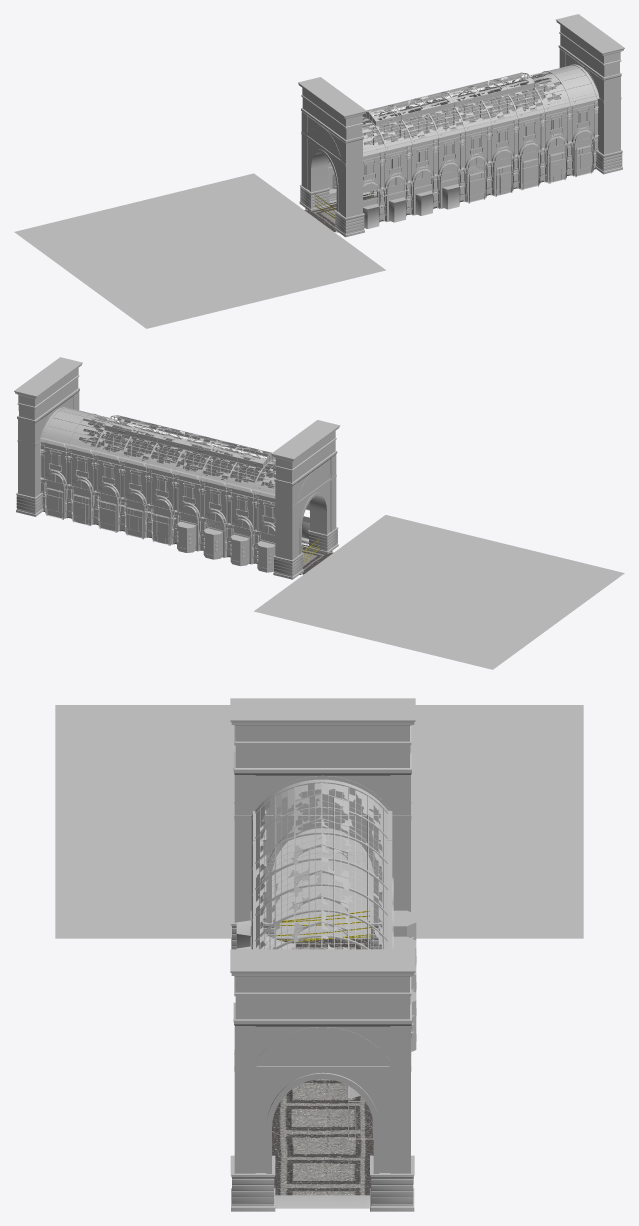
The model's file is Arcade.fbx.
3 views of the same model, one above another, from view 1: azimuth 30°, elevation 25°; view 2: azimuth 150°, elevation 25°; view 3: azimuth 270°, elevation 25° (orthographic). The views are drawn at different scales.
Parts seen in each view (by area): view 1: LODGroup_1_MainMesh_1_SubMesh_8_1, LODGroup_1_MainMesh_1_SubMesh_1_71, LODGroup_1_MainMesh_1_SubMesh_1_72, LODGroup_1_MainMesh_1_SubMesh_2_2, LODGroup_1_MainMesh_1_SubMesh_1_2, LODGroup_1_MainMesh_1_SubMesh_1_35, LODGroup_1_MainMesh_1_SubMesh_1_36, LODGroup_1_MainMesh_1_SubMesh_1_34, LODGroup_1_MainMesh_1_SubMesh_1_33, LODGroup_1_MainMesh_1_SubMesh_2, LODGroup_1_MainMesh_1_SubMesh_1_67, LODGroup_1_MainMesh_1_SubMesh_1_69 (+16 smaller); view 2: LODGroup_1_MainMesh_1_SubMesh_8_1, LODGroup_1_MainMesh_1_SubMesh_1_71, LODGroup_1_MainMesh_1_SubMesh_1_72, LODGroup_1_MainMesh_1_SubMesh_2_2, LODGroup_1_MainMesh_1_SubMesh_1_2, LODGroup_1_MainMesh_1_SubMesh_1_68, LODGroup_1_MainMesh_1_SubMesh_1_69, LODGroup_1_MainMesh_1_SubMesh_1_67, LODGroup_1_MainMesh_1_SubMesh_1_66, LODGroup_1_MainMesh_1_SubMesh_2, LODGroup_1_MainMesh_1_SubMesh_1_36, LODGroup_1_MainMesh_1_SubMesh_1_70 (+16 smaller); view 3: LODGroup_1_MainMesh_1_SubMesh_8_1, LODGroup_1_MainMesh_1_SubMesh_1_72, LODGroup_1_MainMesh_1_SubMesh_1_71, LODGroup_1_MainMesh_1_SubMesh_1_73, LODGroup_1_MainMesh_1_SubMesh_1_2, LODGroup_1_MainMesh_1_SubMesh_2_2, LODGroup_1_MainMesh_1_SubMesh_8.
Part boxes in pixels (<box>): LODGroup_1_MainMesh_1_SubMesh_8_1: <box>14,173,385,328</box>; LODGroup_1_MainMesh_1_SubMesh_1_71: <box>298,77,366,237</box>; LODGroup_1_MainMesh_1_SubMesh_1_72: <box>556,14,624,174</box>; LODGroup_1_MainMesh_1_SubMesh_2_2: <box>362,72,571,156</box>; LODGroup_1_MainMesh_1_SubMesh_1_2: <box>362,71,571,150</box>; LODGroup_1_MainMesh_1_SubMesh_1_35: <box>463,116,515,196</box>; LODGroup_1_MainMesh_1_SubMesh_1_36: <box>517,103,568,184</box>; LODGroup_1_MainMesh_1_SubMesh_1_34: <box>410,128,461,209</box>; LODGroup_1_MainMesh_1_SubMesh_1_33: <box>363,142,408,222</box>; LODGroup_1_MainMesh_1_SubMesh_2: <box>539,65,596,105</box>; LODGroup_1_MainMesh_1_SubMesh_1_67: <box>378,105,426,144</box>; LODGroup_1_MainMesh_1_SubMesh_1_69: <box>485,80,533,118</box>; LODGroup_1_MainMesh_1_SubMesh_8_1: <box>254,515,624,669</box>; LODGroup_1_MainMesh_1_SubMesh_1_71: <box>271,420,340,579</box>; LODGroup_1_MainMesh_1_SubMesh_1_72: <box>14,357,82,516</box>; LODGroup_1_MainMesh_1_SubMesh_2_2: <box>68,414,275,498</box>; LODGroup_1_MainMesh_1_SubMesh_1_2: <box>67,413,275,492</box>; LODGroup_1_MainMesh_1_SubMesh_1_68: <box>123,459,175,539</box>; LODGroup_1_MainMesh_1_SubMesh_1_69: <box>70,446,121,526</box>; LODGroup_1_MainMesh_1_SubMesh_1_67: <box>177,472,228,550</box>; LODGroup_1_MainMesh_1_SubMesh_1_66: <box>230,485,275,563</box>; LODGroup_1_MainMesh_1_SubMesh_2: <box>42,408,100,448</box>; LODGroup_1_MainMesh_1_SubMesh_1_36: <box>105,423,153,460</box>; LODGroup_1_MainMesh_1_SubMesh_1_70: <box>43,439,68,485</box>; LODGroup_1_MainMesh_1_SubMesh_8_1: <box>55,705,583,938</box>; LODGroup_1_MainMesh_1_SubMesh_1_72: <box>230,949,415,1211</box>; LODGroup_1_MainMesh_1_SubMesh_1_71: <box>230,698,415,949</box>; LODGroup_1_MainMesh_1_SubMesh_1_73: <box>272,938,373,1195</box>; LODGroup_1_MainMesh_1_SubMesh_1_2: <box>251,779,388,949</box>; LODGroup_1_MainMesh_1_SubMesh_2_2: <box>251,783,387,949</box>; LODGroup_1_MainMesh_1_SubMesh_8: <box>275,1195,369,1208</box>.
Size of the model in its own units: 8007 by 1793 by 3517.
